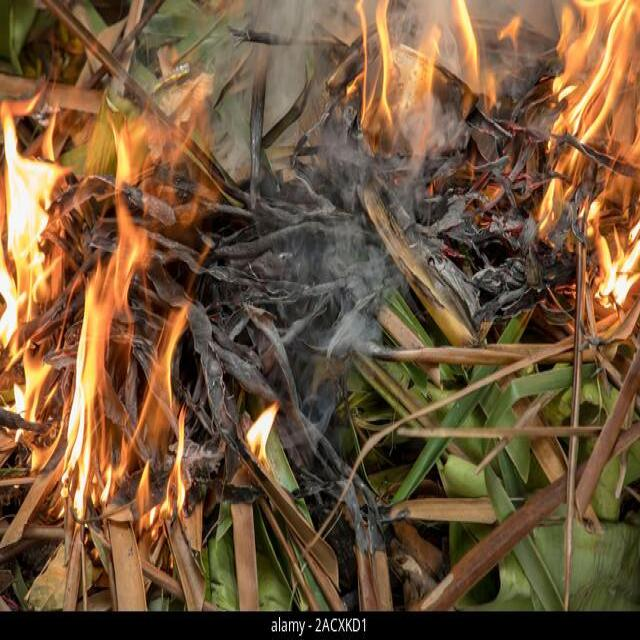fire: (59, 110, 187, 538), (540, 0, 640, 308), (0, 87, 74, 444), (348, 0, 496, 151)
